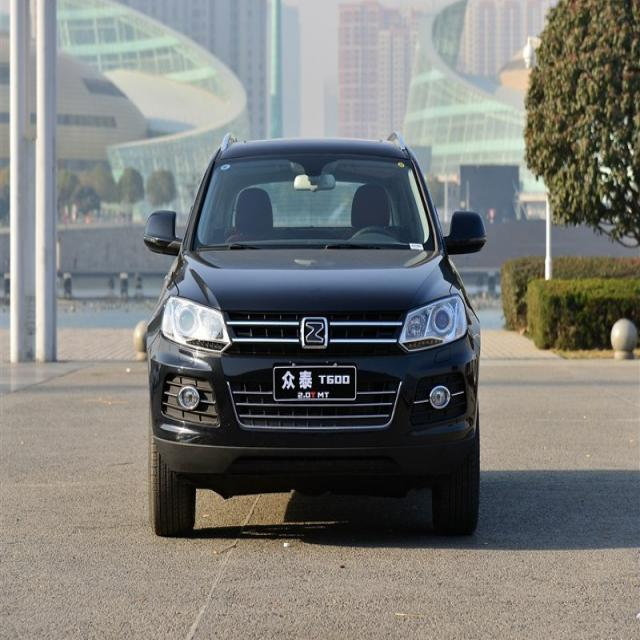front_bumper: (146, 328, 478, 473)
front_glass: (190, 151, 436, 252)
front_left_side_light: (399, 294, 470, 356)
front_left_side_mirror: (446, 208, 488, 255)
front_right_side_light: (160, 294, 231, 356)
front_right_side_mirror: (142, 206, 182, 258)
wheel: (150, 439, 195, 535), (431, 451, 479, 534)
